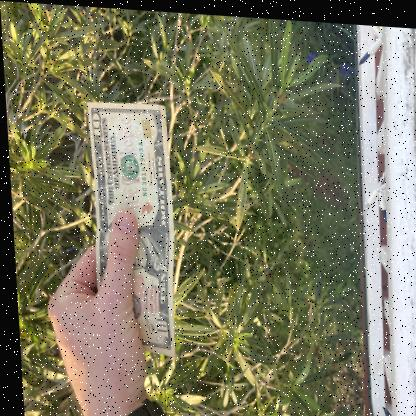ten-front: (82, 96, 177, 354)
